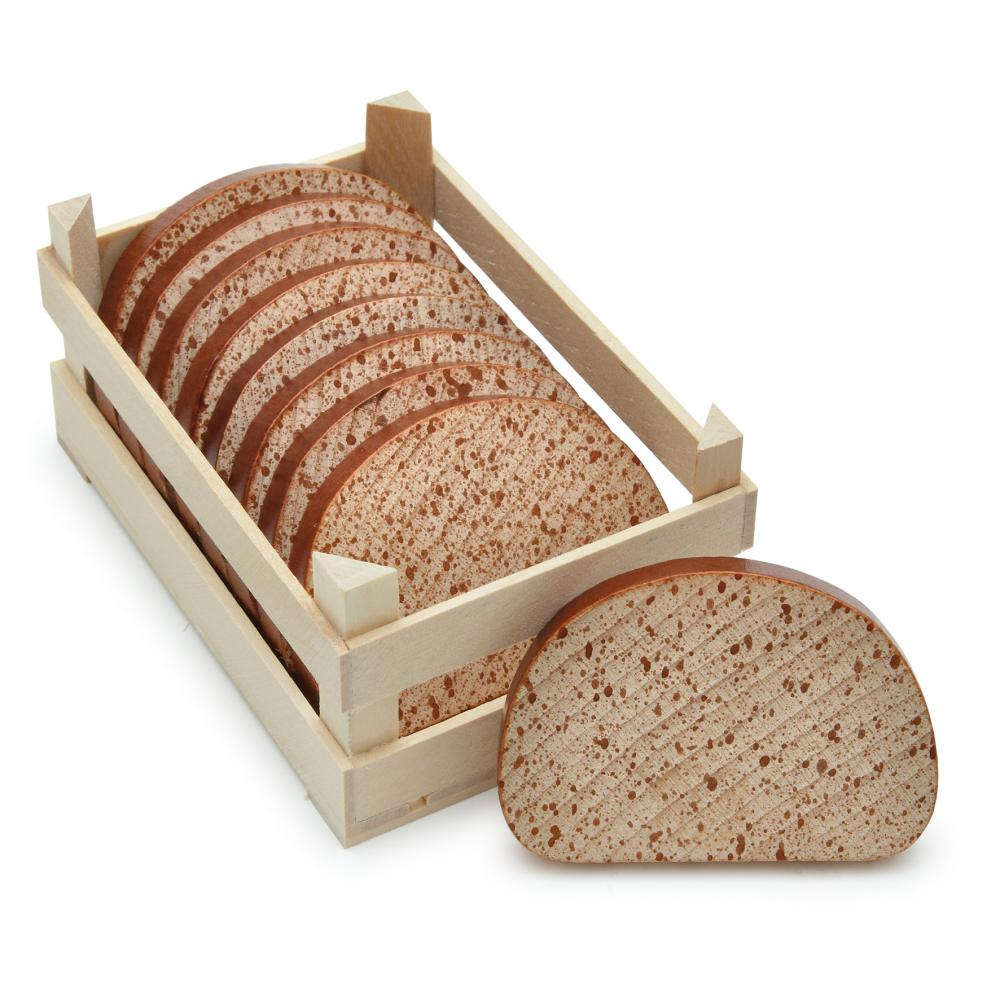slice of bread: (113, 154, 670, 563), (487, 550, 956, 872)
